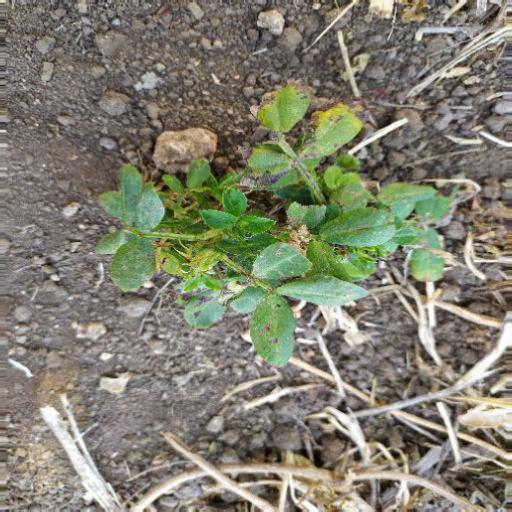weed: (59, 80, 455, 336)
